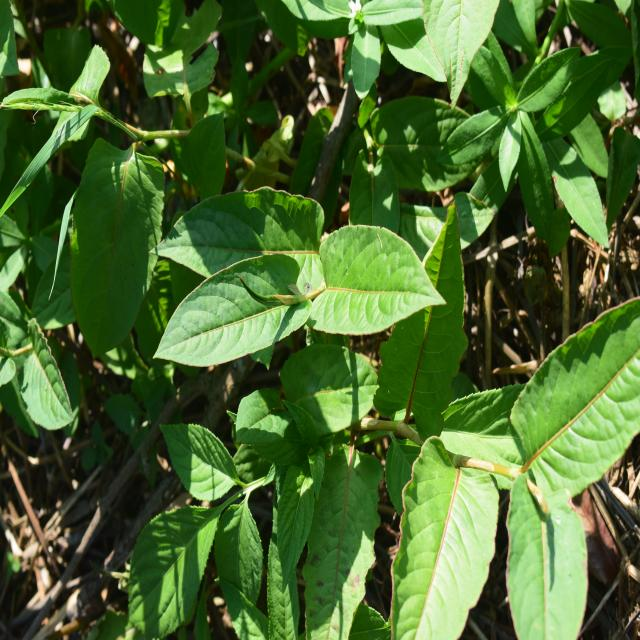Chinese_knotweed: (378, 289, 635, 633), (158, 195, 425, 370)
